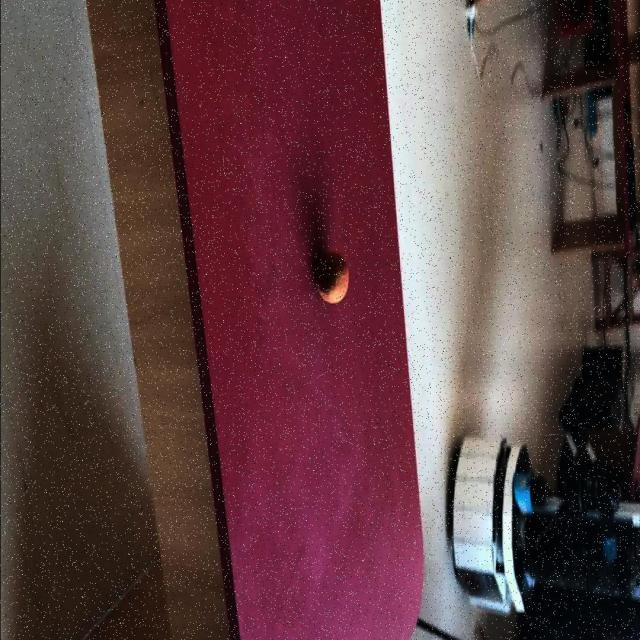Kiwi: (316, 253, 350, 306)
